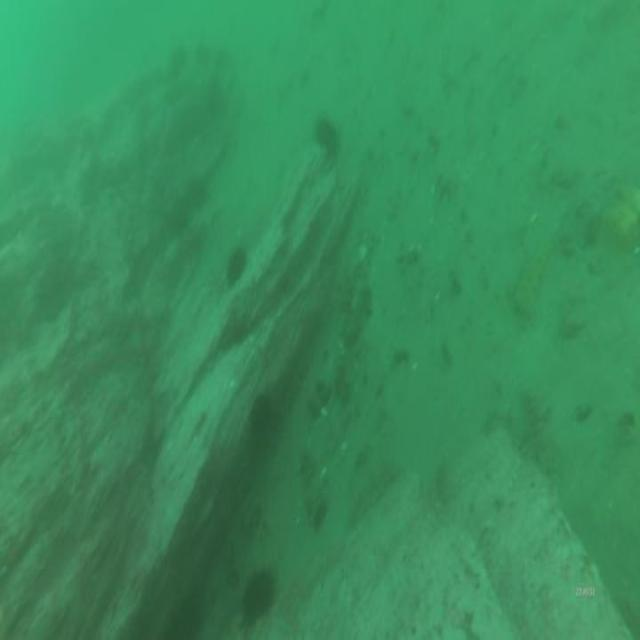echinus: (233, 566, 281, 638), (222, 240, 248, 291), (248, 389, 275, 436), (312, 114, 340, 158), (187, 171, 209, 213), (167, 40, 190, 78), (210, 44, 234, 78), (190, 38, 212, 73)
holothurian: (510, 226, 552, 321), (305, 338, 346, 424), (294, 444, 332, 531), (343, 254, 373, 351)
